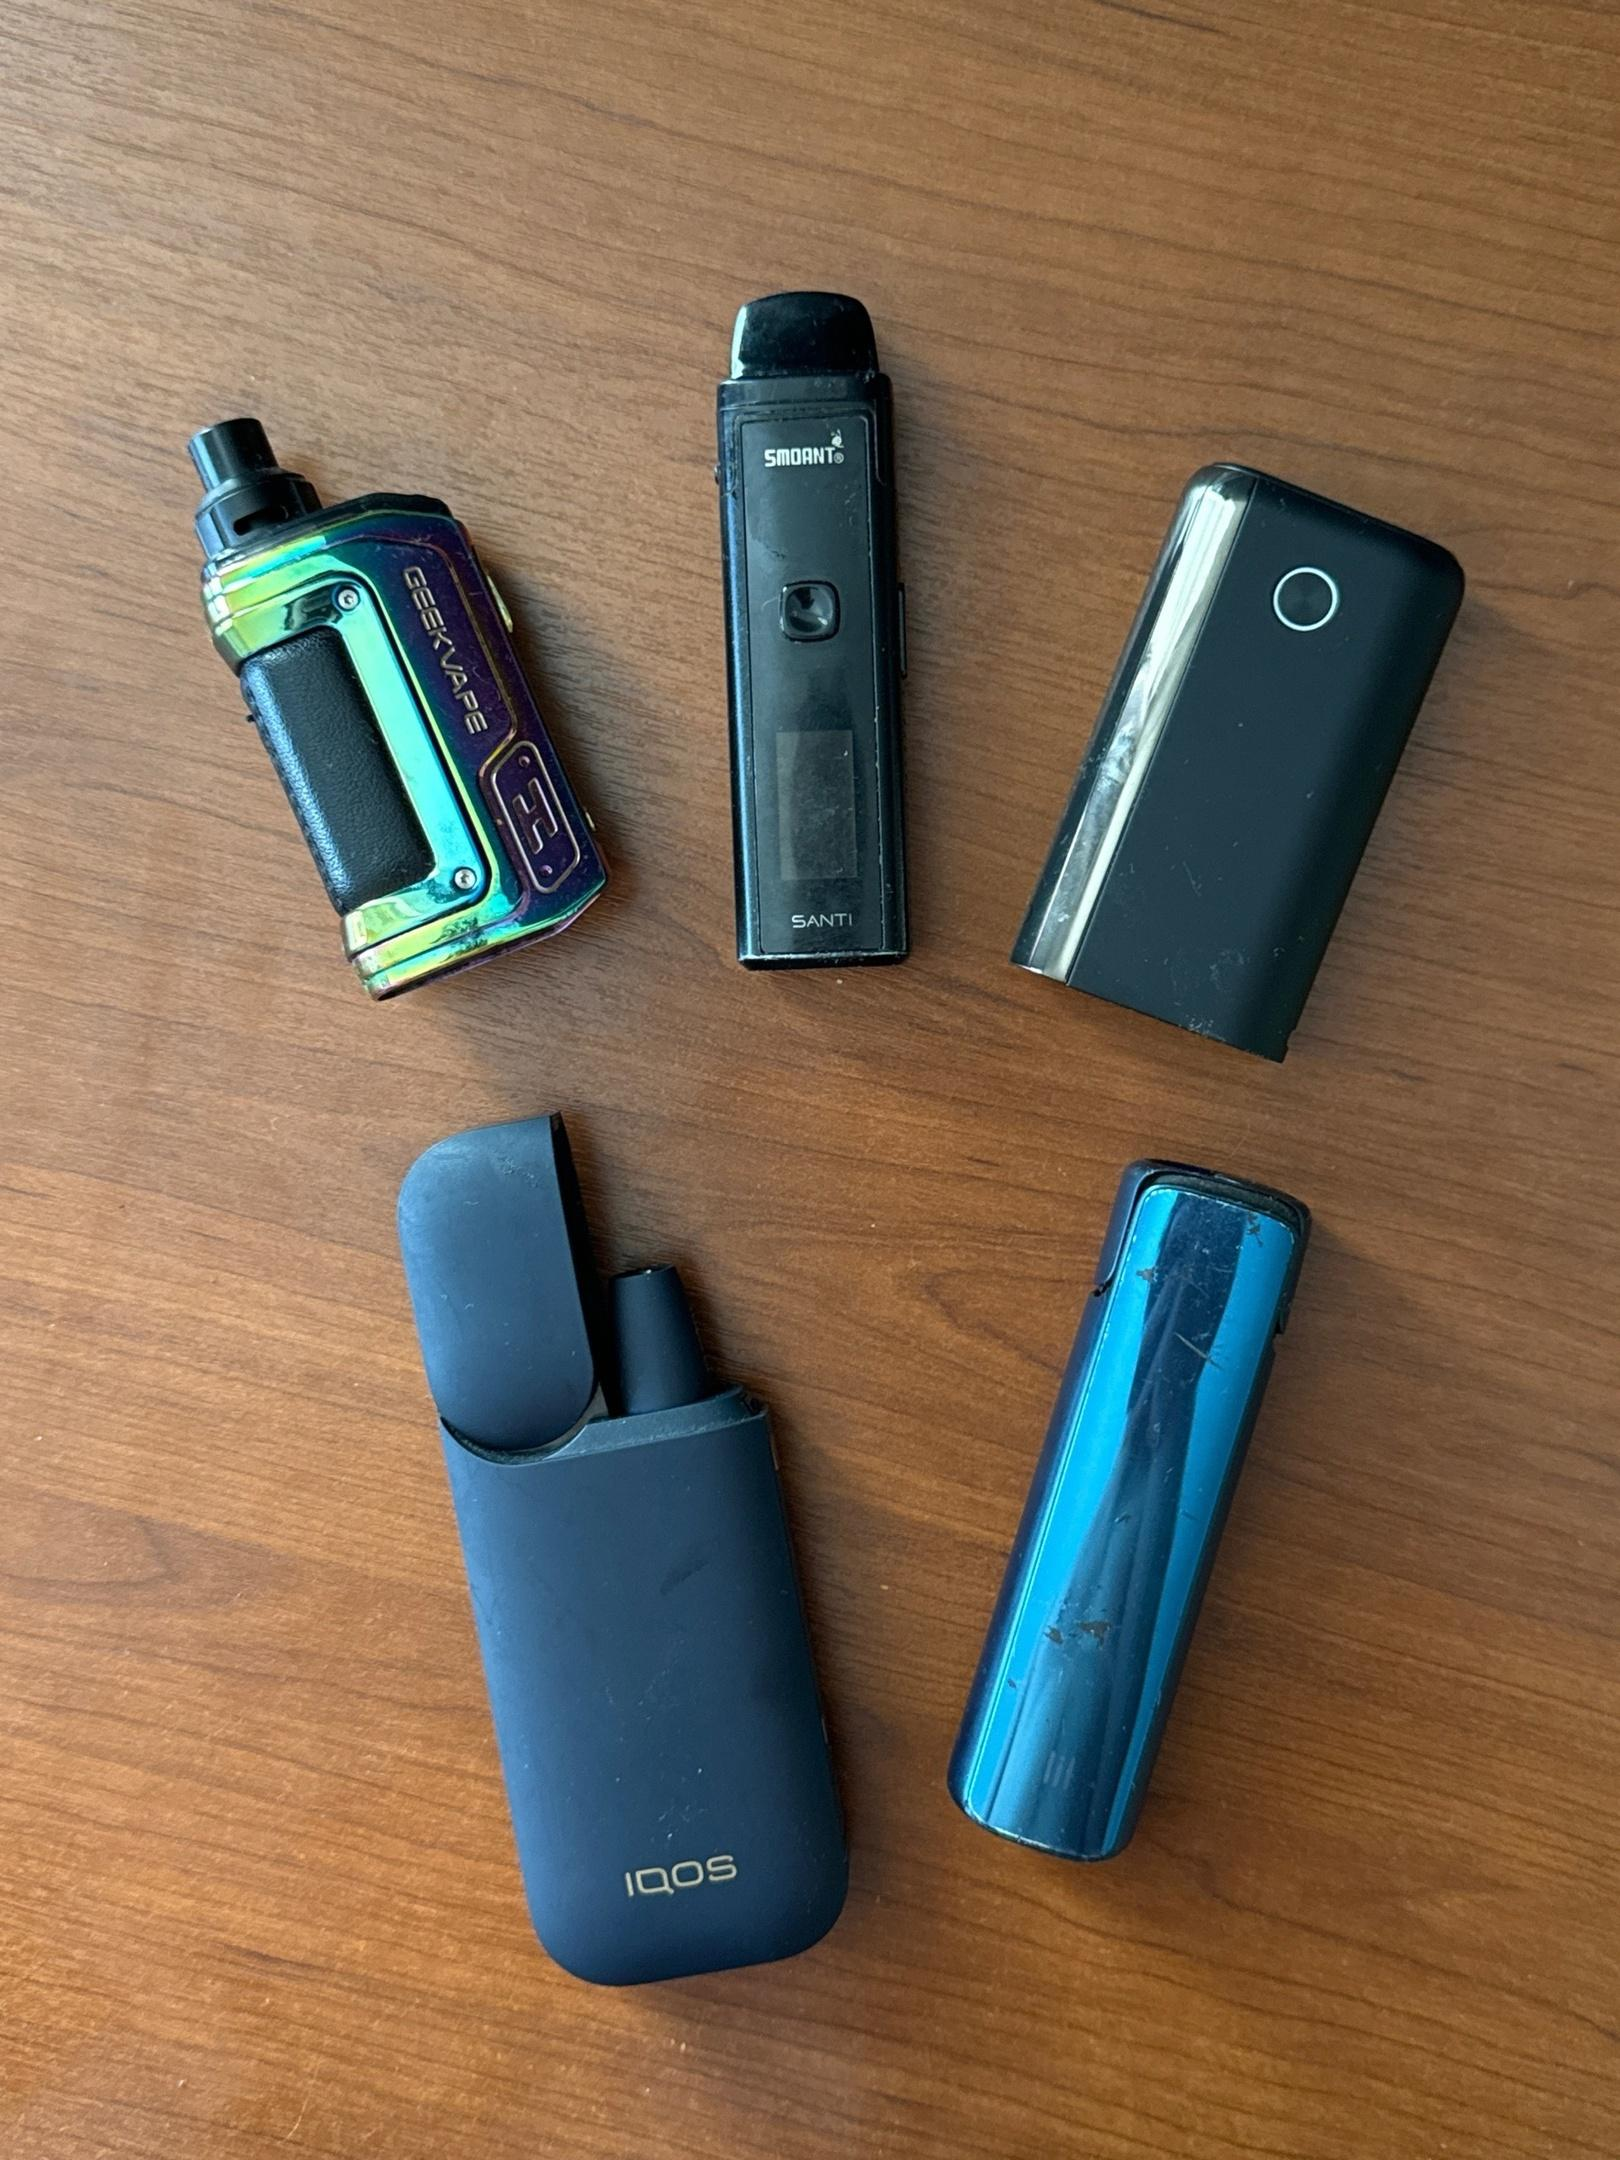Vape: (191, 418, 604, 997), (718, 293, 909, 968)
